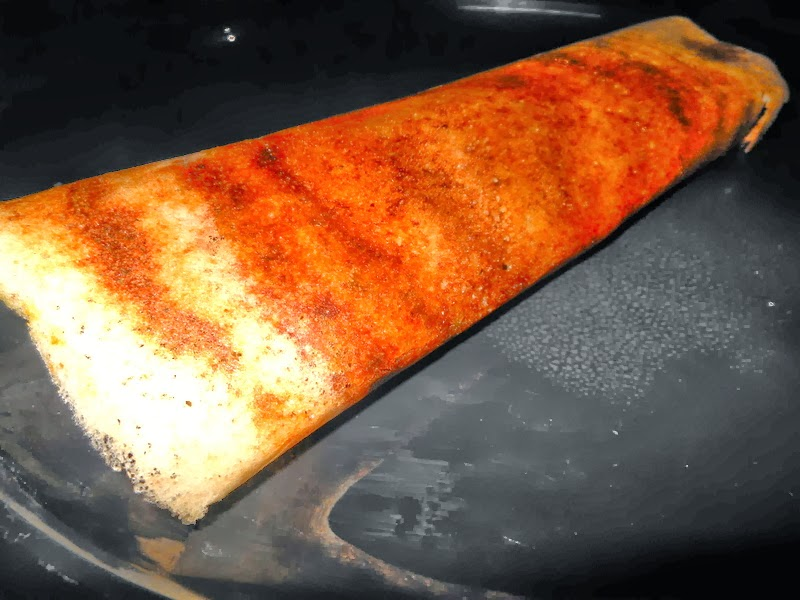dosa: (3, 15, 791, 521)
